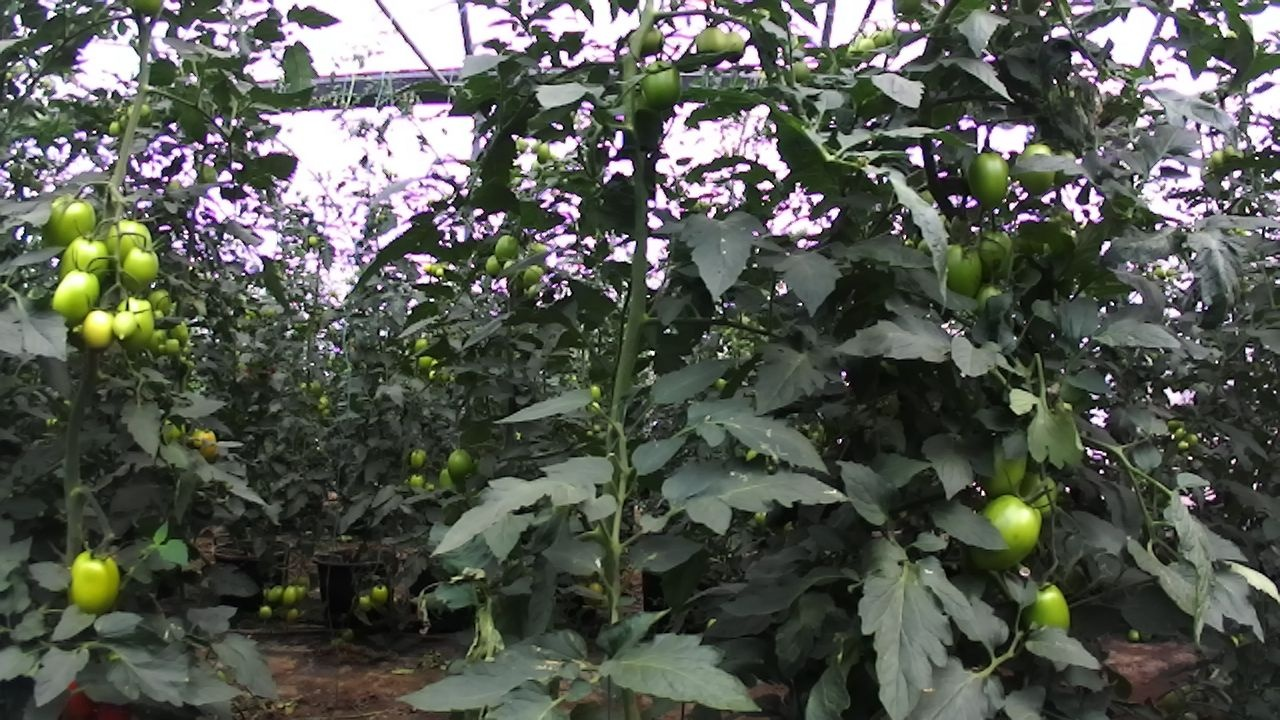tomato: (961, 473, 1062, 588), (59, 533, 146, 630), (1013, 569, 1095, 668), (967, 416, 1045, 508), (957, 139, 1029, 220), (37, 178, 108, 254), (933, 234, 994, 313), (51, 226, 116, 296), (98, 209, 164, 277), (45, 262, 111, 325), (1010, 133, 1065, 201), (634, 54, 691, 115), (1012, 461, 1066, 523), (970, 218, 1020, 279), (116, 239, 166, 299), (111, 293, 158, 353), (78, 305, 123, 353), (691, 18, 732, 69), (711, 21, 755, 68), (185, 418, 228, 465), (439, 442, 482, 488), (622, 21, 672, 60), (433, 463, 471, 501), (488, 227, 523, 266), (110, 304, 141, 344), (401, 466, 430, 496), (405, 442, 430, 475), (366, 578, 392, 609), (521, 260, 548, 288), (482, 249, 505, 281), (351, 589, 380, 614), (264, 580, 288, 608), (533, 138, 555, 168), (160, 333, 184, 360), (254, 600, 278, 624), (278, 582, 299, 608), (104, 115, 125, 140), (409, 334, 432, 356), (414, 350, 436, 372)
